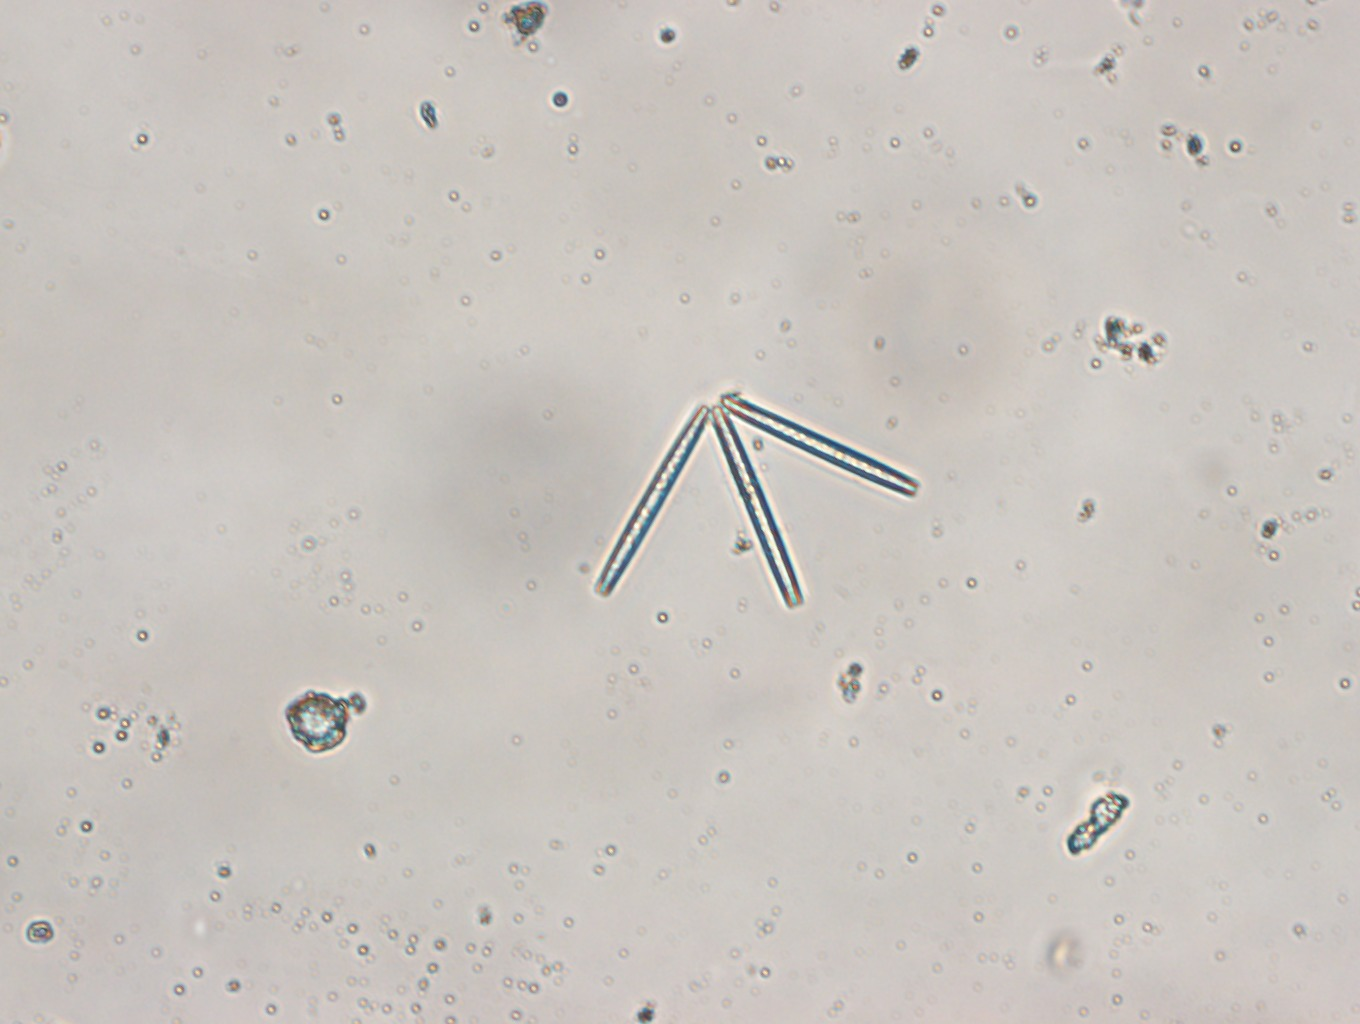thalassionema nitzschioides: (588, 383, 927, 618)
